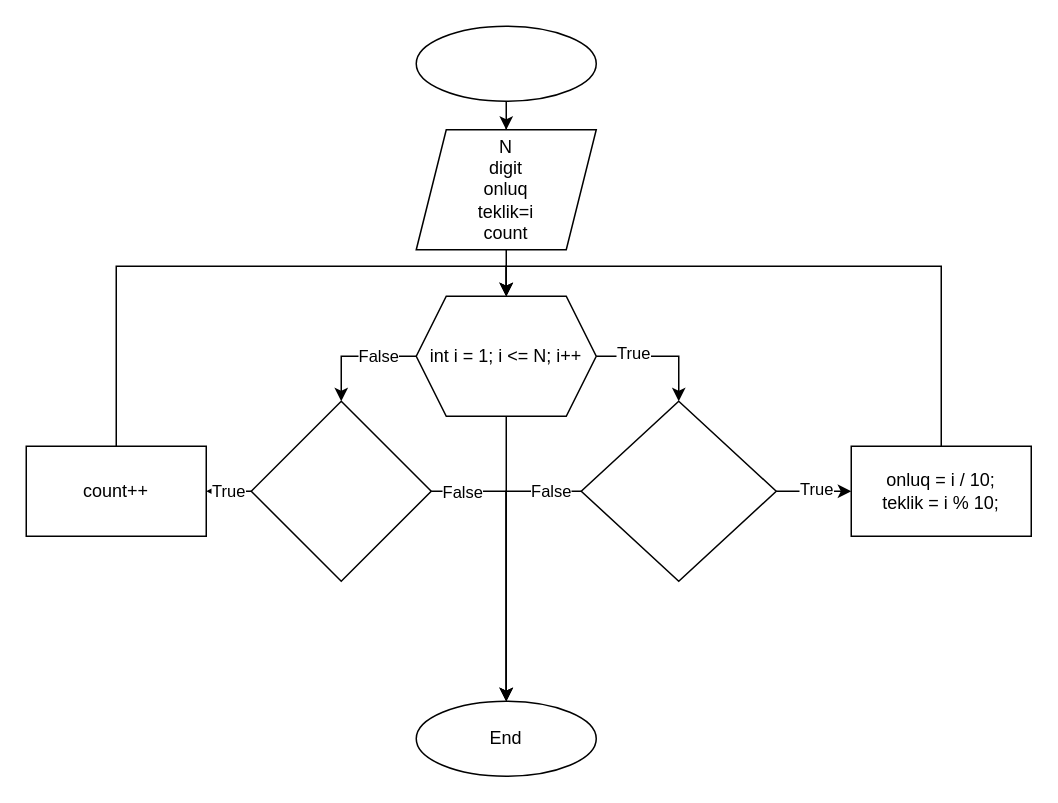
This 1058x803 diagram has some shape labels left out. Each missing label, with the box of its shape:
i>9: (580, 400, 776, 581)
onluq == digit || teklik == digit: (250, 400, 431, 581)
Start: (415, 25, 596, 101)
